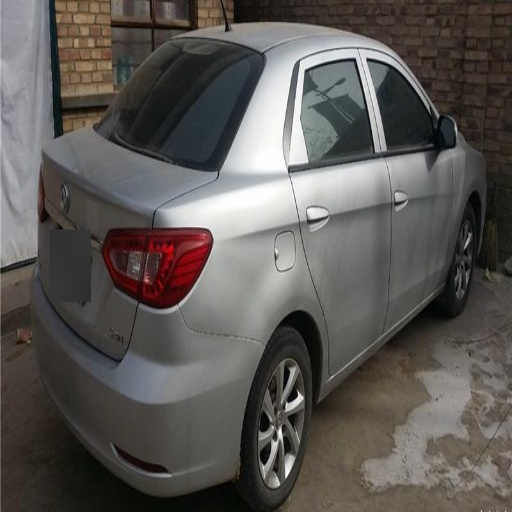back_bumper: (30, 290, 266, 496)
back_left_light: (101, 240, 144, 296)
back_right_door: (283, 47, 390, 371)
tailgate: (42, 146, 183, 354)
